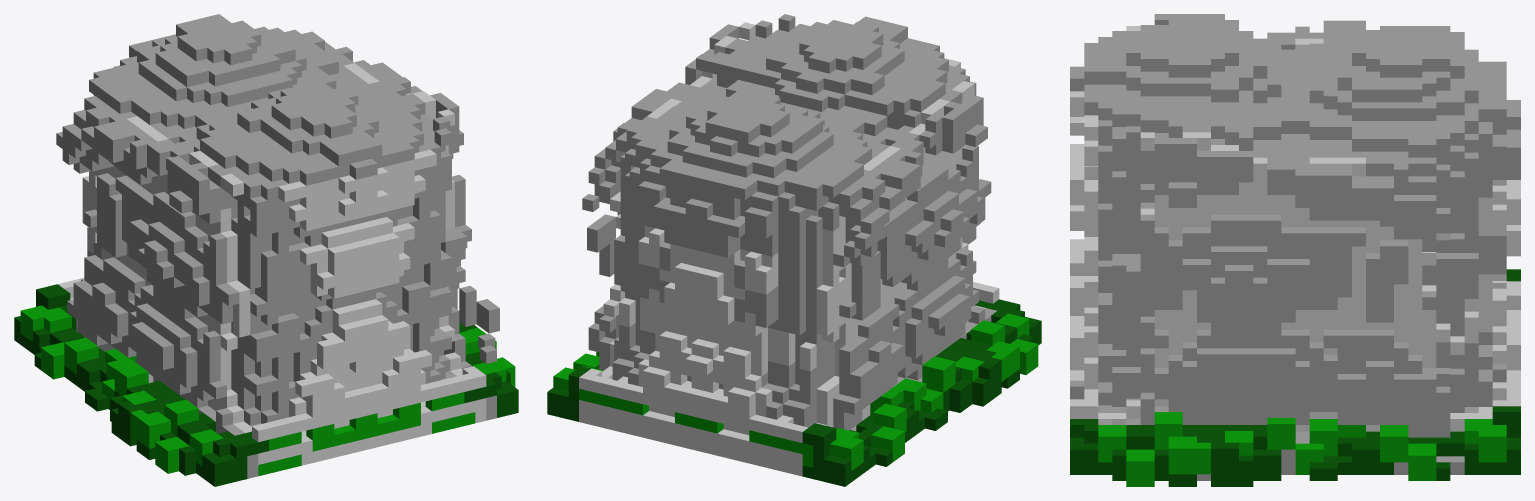
Rendered from kiviaita.gltf.
The picture shows the model from 3 angles, left to right: view 1: azimuth 30°, elevation 25°; view 2: azimuth 150°, elevation 25°; view 3: azimuth 270°, elevation 25°; orthographic projection. The views are drawn at different scales.
Visible parts, largest first — view 1: Layer.1, Layer.2; view 2: Layer.1, Layer.2; view 3: Layer.1, Layer.2.
Boxes of the visible parts, left/top/right/bottom form: Layer.1: left=56, top=14, right=499, bottom=478; Layer.2: left=14, top=284, right=518, bottom=486; Layer.1: left=579, top=14, right=999, bottom=476; Layer.2: left=547, top=299, right=1041, bottom=486; Layer.1: left=1070, top=14, right=1520, bottom=480; Layer.2: left=1070, top=269, right=1520, bottom=486.
Bounding box in the file's own units: 32 × 27 × 32.
1 material, 1 textured.
